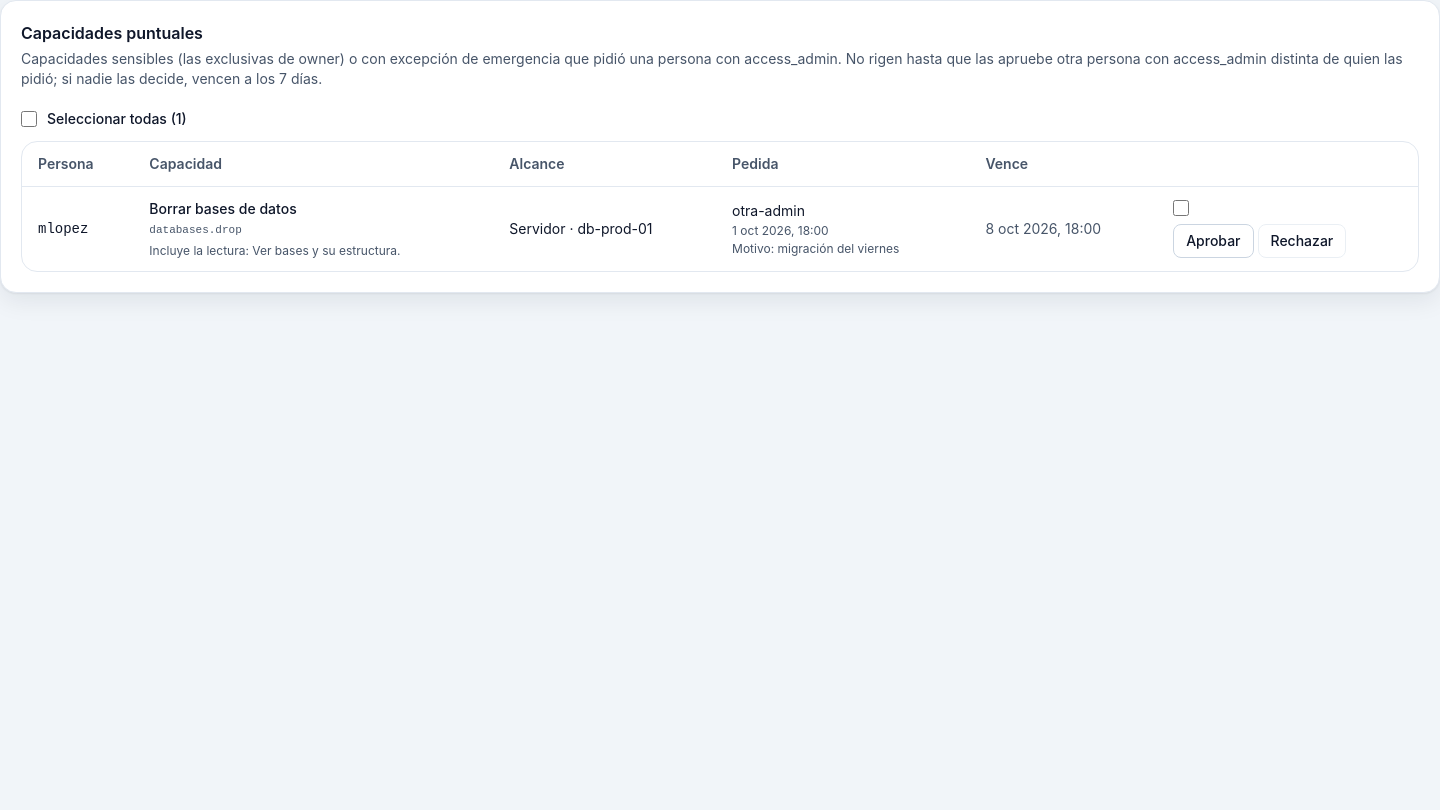
Test: PendingCapabilityGrantsCard › aprobar pide confirmación y envía el motivo recortado
Click the button with aria-label "Aprobar:": (1213, 241) [1173,224,1254,258]
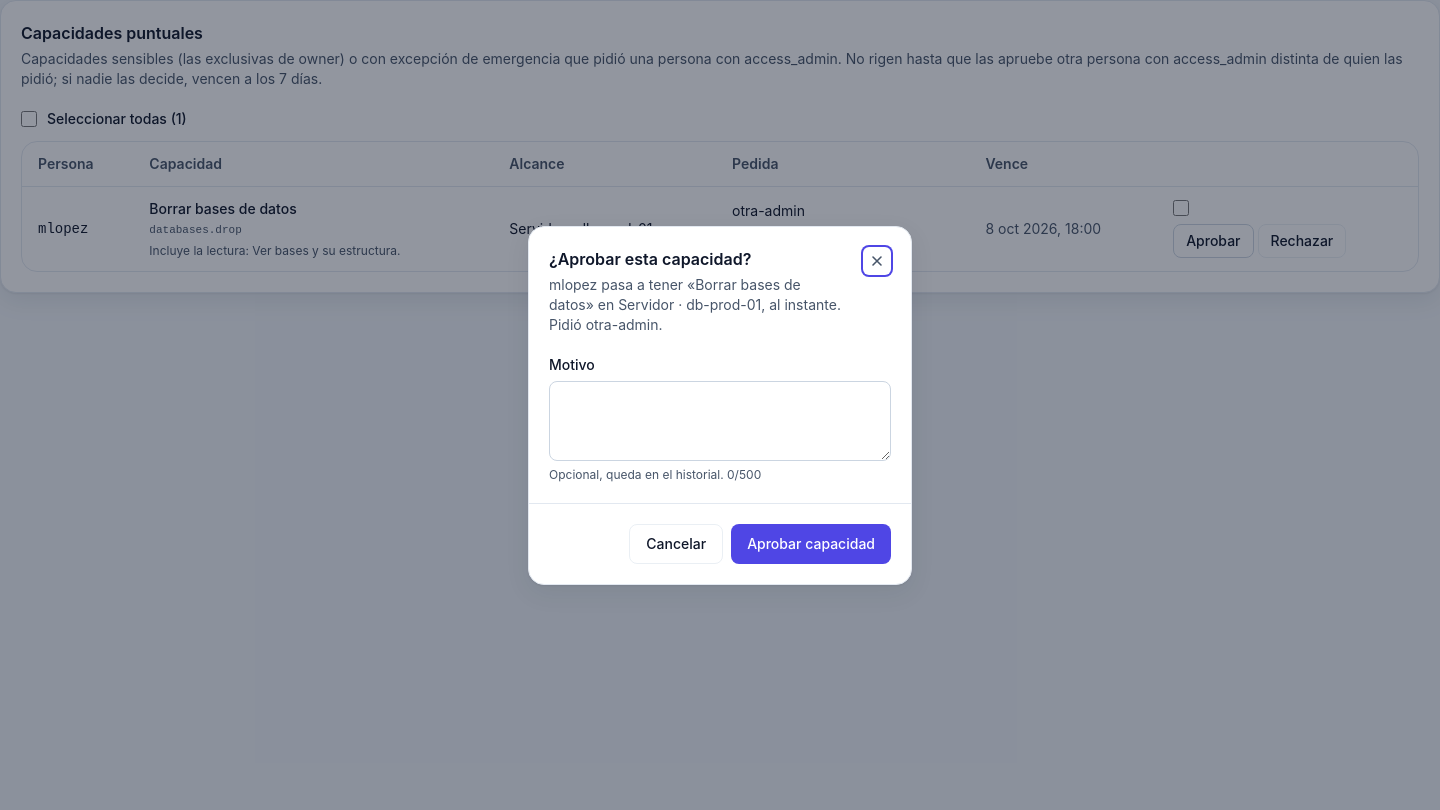
Check: the heading "¿Aprobar esta capacidad?" is shown, box [549,248,751,268]
In the text box labelled "Motivo": (720, 420) [549,380,891,460], type " ok "
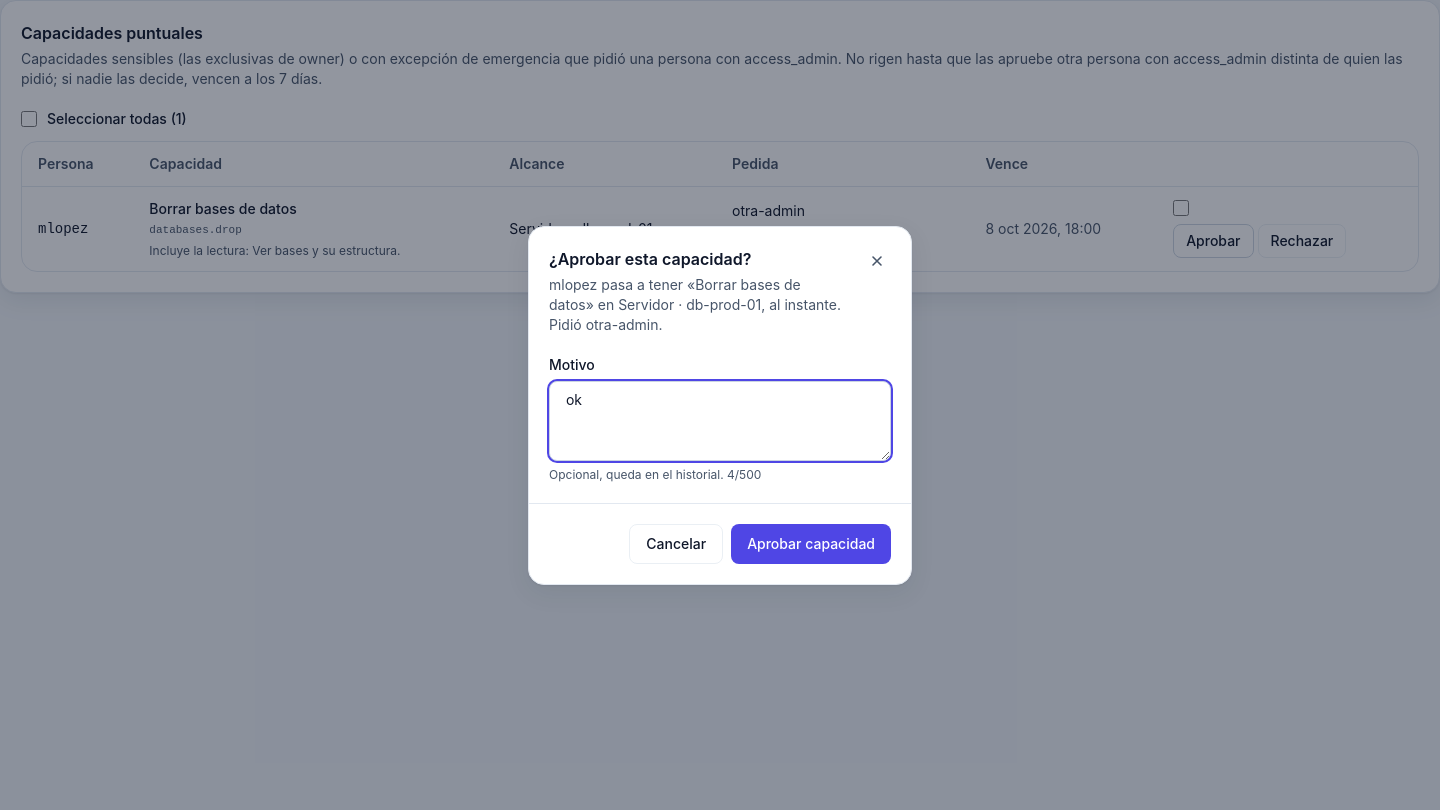
Click the button "Aprobar capacidad": (811, 544) [731,524,891,564]
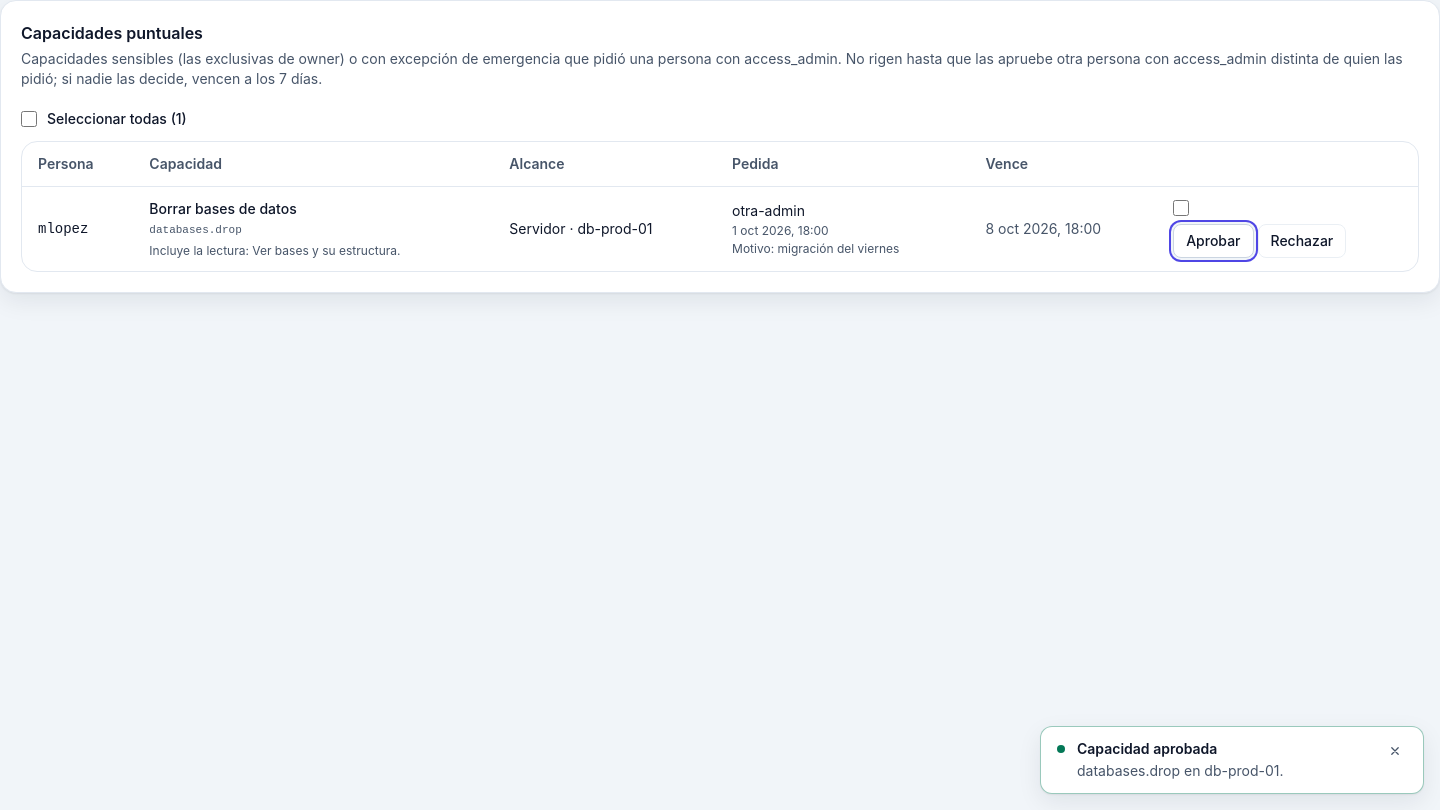
Check: the dialog is gone
